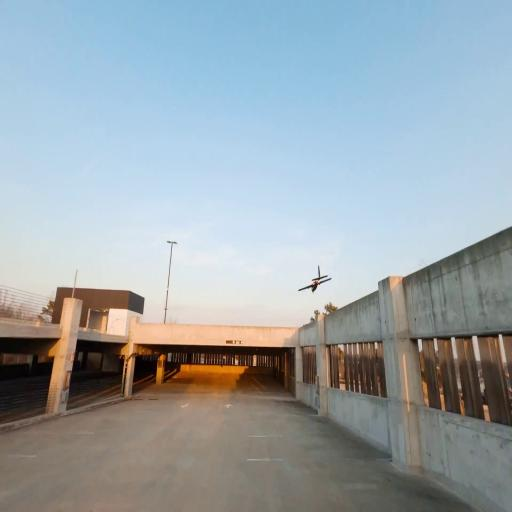uav: (297, 258, 333, 303)
